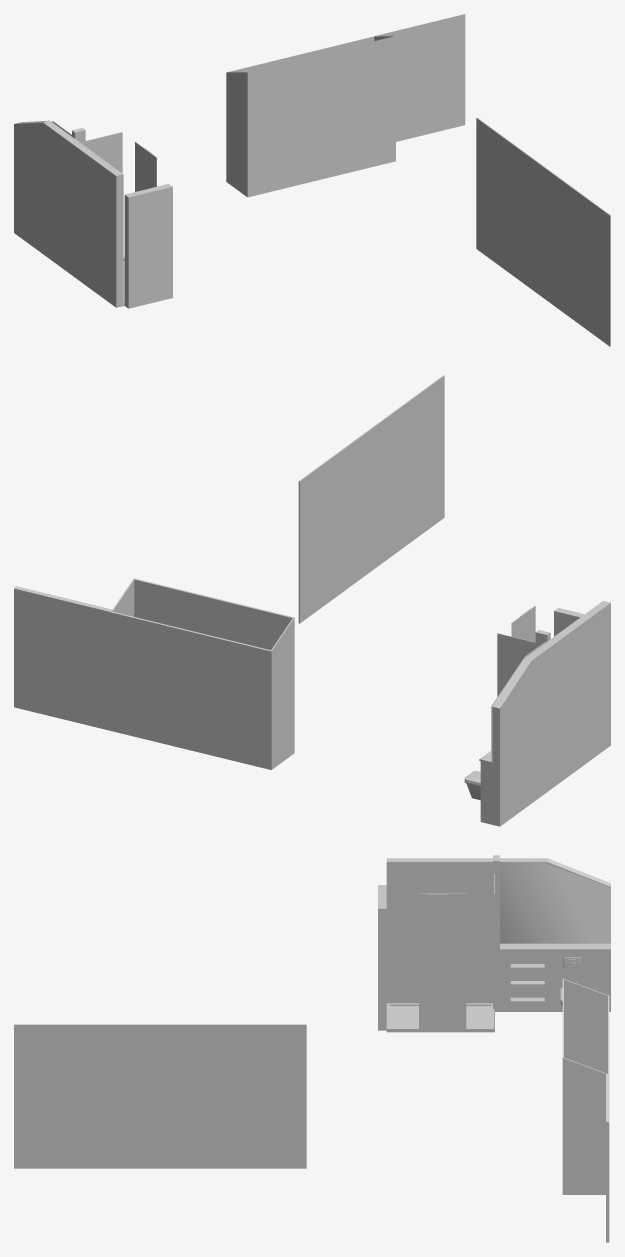
File: EB03__Storey__FirstFloor__ExistingFixtures__MeshModel__.glb
3 views of the same model, one above another, from view 1: azimuth 30°, elevation 25°; view 2: azimuth 150°, elevation 25°; view 3: azimuth 270°, elevation 25° (orthographic). The views are drawn at different scales.
Visible parts, largest first — view 1: 17__ExistingBuilding__Fixtures::Default; view 2: 17__ExistingBuilding__Fixtures::Default; view 3: 17__ExistingBuilding__Fixtures::Default, 17__ExistingBuilding__Fixtures::MAT140__Mirror__ClearDefault.
Part boxes in pixels (x1,y1,x2,y2): 17__ExistingBuilding__Fixtures::Default: (14,14,610,346); 17__ExistingBuilding__Fixtures::Default: (14,375,610,826); 17__ExistingBuilding__Fixtures::Default: (14,855,610,1242); 17__ExistingBuilding__Fixtures::MAT140__Mirror__ClearDefault: (500,862,610,943).
Size of the model in its own units: 8.39 by 2.46 by 8.81.
Materials: 2 (1 with a texture image).
